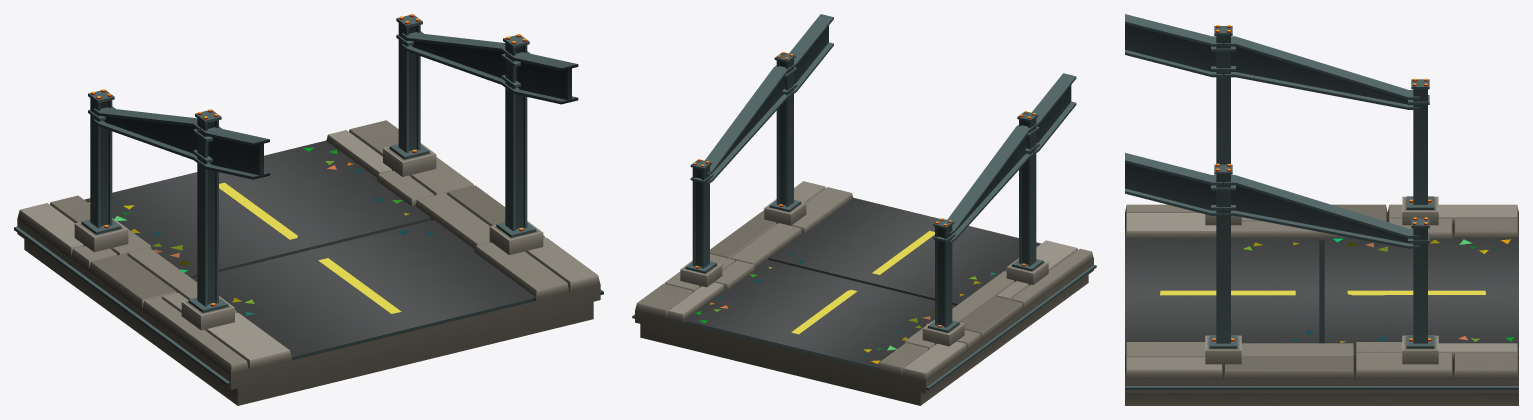
Rendered from Bridge_Modular_1A.fbx.
The picture shows the model from 3 angles, left to right: view 1: azimuth 30°, elevation 25°; view 2: azimuth 150°, elevation 25°; view 3: azimuth 270°, elevation 25°; orthographic projection. The views are drawn at different scales.
Parts seen in each view (by area): view 1: Bridge_Modular_1A, Bridge_Modular_1A_Leaves; view 2: Bridge_Modular_1A, Bridge_Modular_1A_Leaves; view 3: Bridge_Modular_1A, Bridge_Modular_1A_Leaves.
Boxes of the visible parts, x1=… form: Bridge_Modular_1A: x1=14, y1=14, x2=603, y2=405; Bridge_Modular_1A_Leaves: x1=88, y1=147, x2=433, y2=315; Bridge_Modular_1A: x1=632, y1=14, x2=1096, y2=405; Bridge_Modular_1A_Leaves: x1=694, y1=252, x2=996, y2=363; Bridge_Modular_1A: x1=1125, y1=14, x2=1518, y2=405; Bridge_Modular_1A_Leaves: x1=1243, y1=238, x2=1514, y2=342.
Bounding box in the file's own units: 1222 × 802 × 1200.
